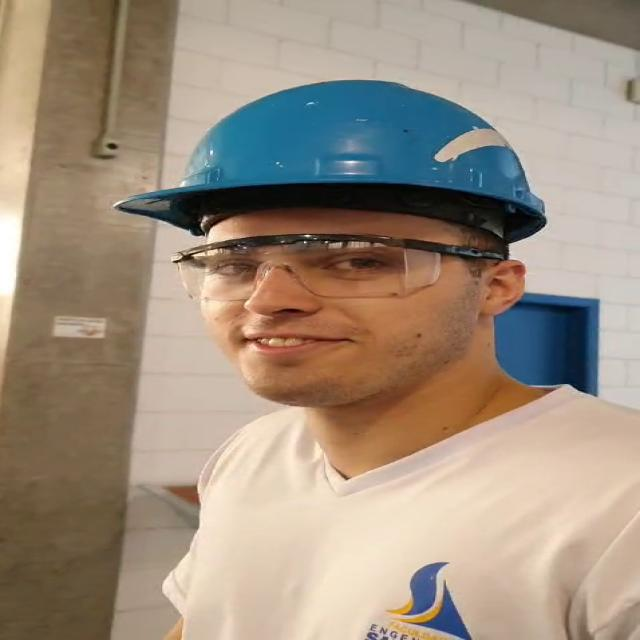oculos-epi: (171, 234, 497, 301)
